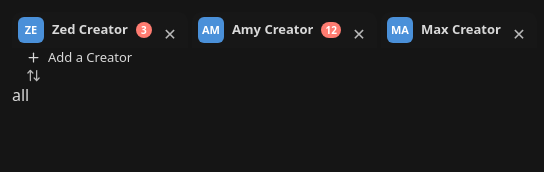
CreatorTabs › closing every tab shows the all-closed text, focuses "+ Add a Creator" and leaves the scope alone
Click the tab named "Amy Creator 12 unread": [269, 30] box [198, 12, 341, 48]
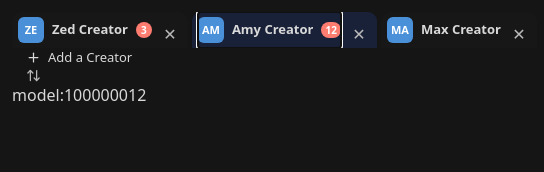
Click the 3rd button "✕": [519, 30] box [511, 22, 527, 38]
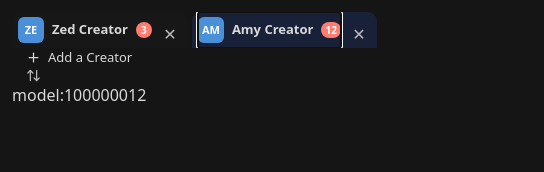
Click the 1st button "✕": [170, 30] box [162, 22, 178, 38]
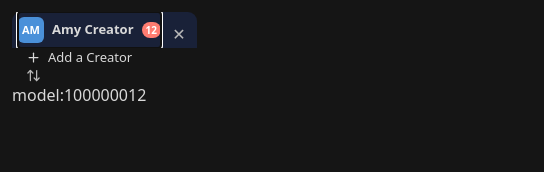
Expected: the text "All creator tabs closed — use “+ Add a Creator”" is not shown
Click the button "✕": [179, 30] box [171, 22, 187, 38]
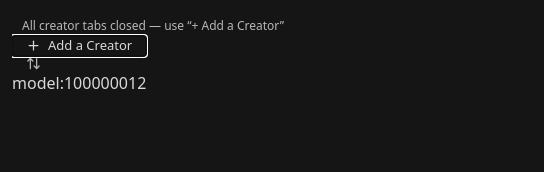
Expected: no tabs are shown
Expected: the text "All creator tabs closed — use “+ Add a Creator”" is shown, [12, 17, 294, 34]
